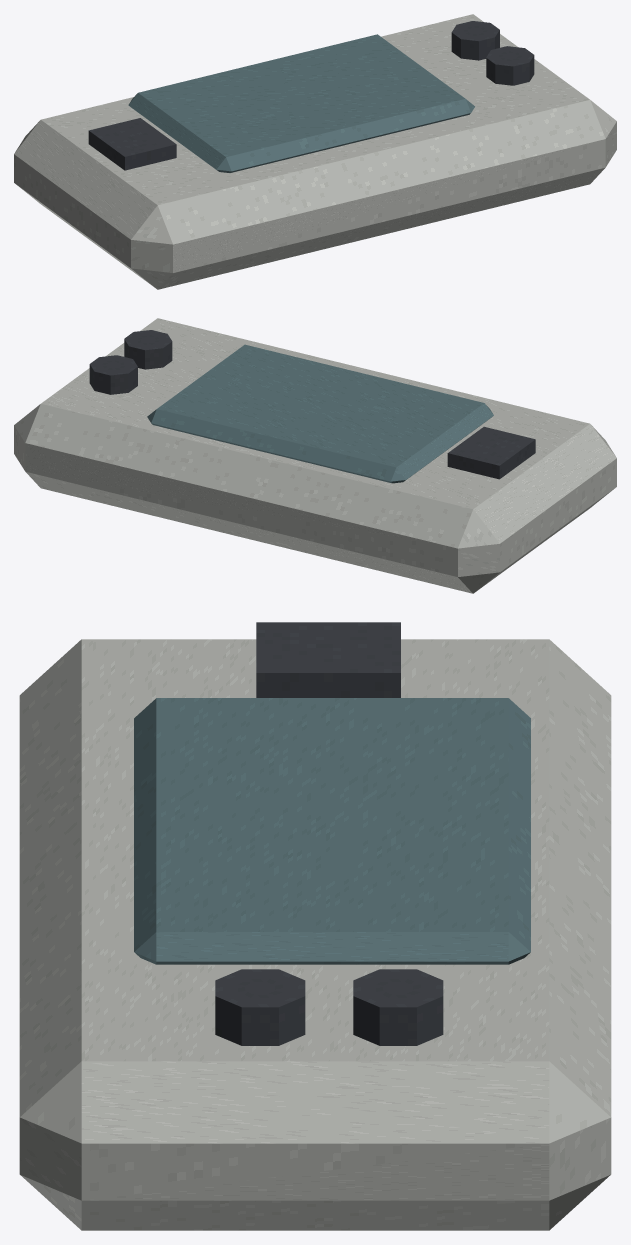
File: portable_game.glb
3 views of the same model, one above another, from view 1: azimuth 30°, elevation 25°; view 2: azimuth 150°, elevation 25°; view 3: azimuth 270°, elevation 25° (orthographic). The views are drawn at different scales.
Parts seen in each view (by area): view 1: block_enclosure, block_screen, block_action button (×2), block_direction buttons; view 2: block_enclosure, block_screen, block_action button (×2), block_direction buttons; view 3: block_enclosure, block_screen, block_action button (×2), block_direction buttons.
Boxes of the visible parts, left/top/right/bottom form: block_enclosure: left=14, top=14, right=616, bottom=289; block_screen: left=128, top=34, right=474, bottom=172; block_action button (×2): left=451, top=21, right=534, bottom=85; block_direction buttons: left=88, top=118, right=176, bottom=170; block_enclosure: left=14, top=318, right=616, bottom=593; block_screen: left=147, top=344, right=493, bottom=483; block_action button (×2): left=89, top=330, right=172, bottom=394; block_direction buttons: left=447, top=426, right=535, bottom=479; block_enclosure: left=19, top=639, right=611, bottom=1230; block_screen: left=134, top=698, right=530, bottom=964; block_action button (×2): left=215, top=969, right=443, bottom=1045; block_direction buttons: left=256, top=622, right=400, bottom=697.
Size of the model in its own units: 0.1313 by 0.0268 by 0.0692.
Materials: 1 (1 with a texture image).
